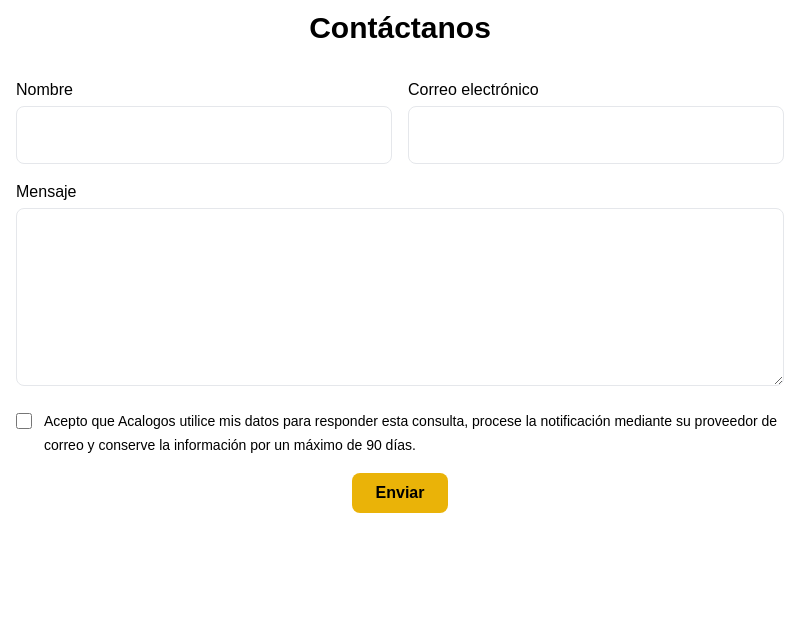
Test case: Contacto › aplica los límites visibles antes del fetch
Type "a" into the field labelled "Nombre".
click(204, 135); type("a")  # box [16,106,392,164]
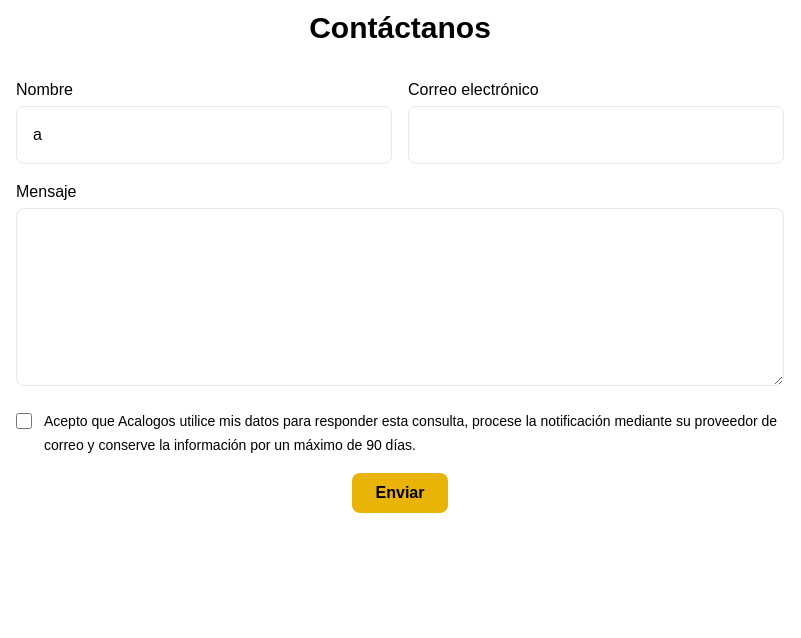
Type "correo-invalido" into the field labelled "Correo electrónico".
click(596, 135); type("correo-invalido")  # box [408,106,784,164]
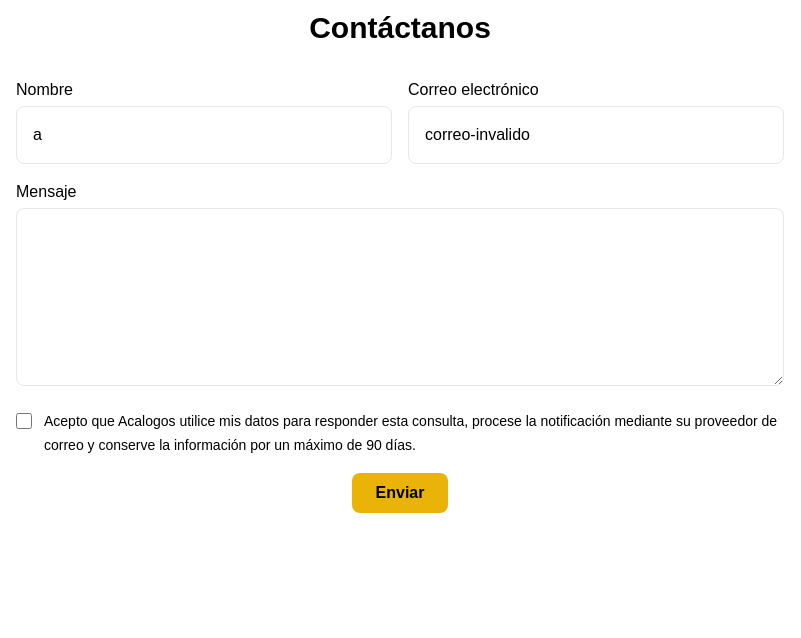
Type "corto" into the text box labelled "Mensaje".
click(400, 297); type("corto")  # box [16,208,784,386]
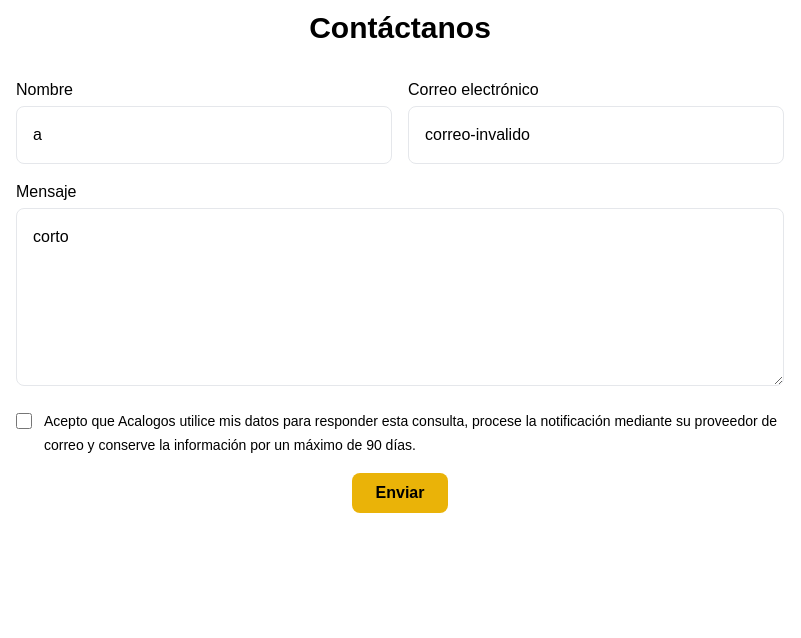
Click the button "Enviar".
click(400, 493)  # box [352,473,448,513]
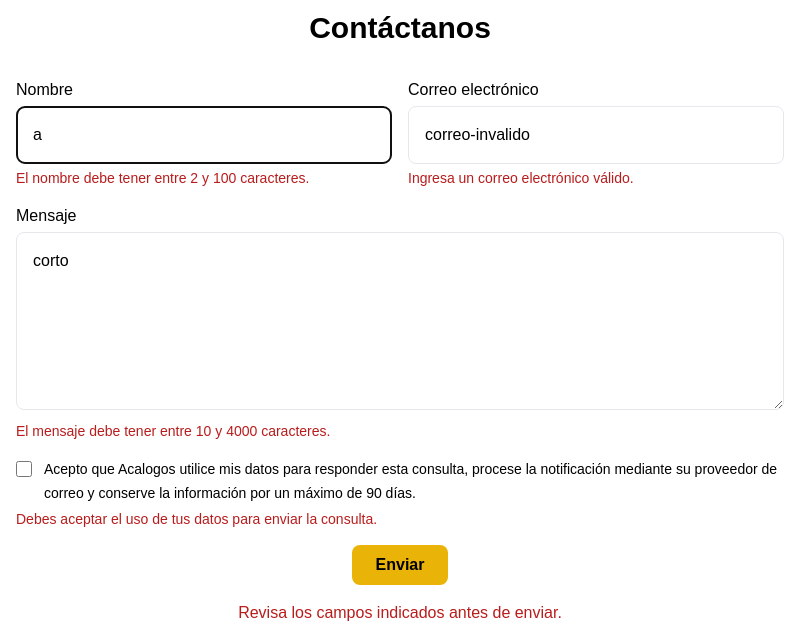
Result: the text "El nombre debe tener entre 2 y 100 caracteres." is shown at [16,170,309,186]
Result: the text "Ingresa un correo electrónico válido." is shown at [408,170,634,186]
Result: the text "El mensaje debe tener entre 10 y 4000 caracteres." is shown at [16,423,330,439]
